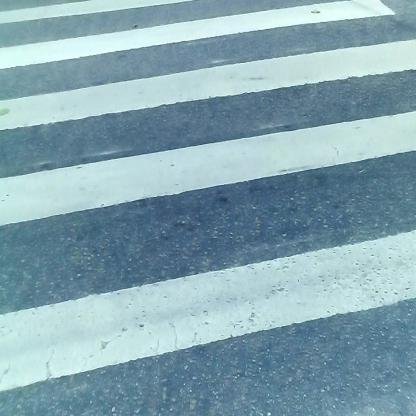crosswalk: (8, 9, 416, 370)
